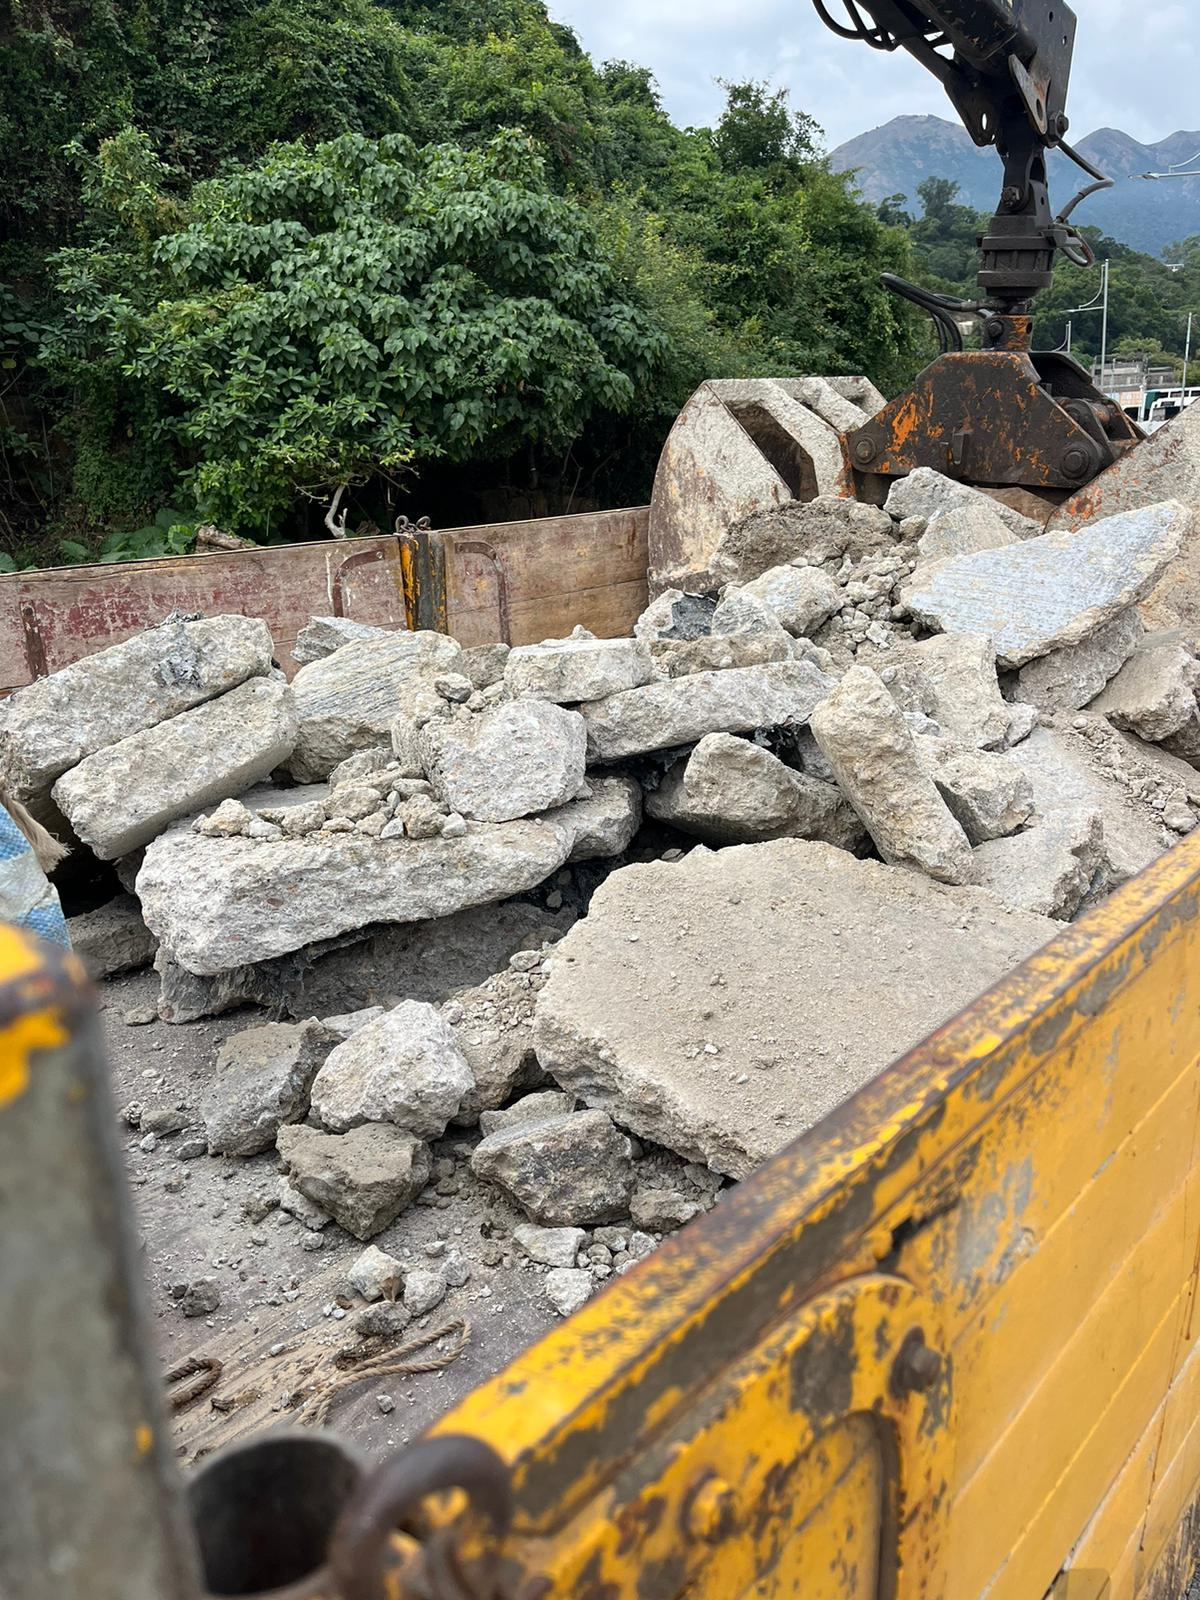dry: (18, 472, 1200, 1308)
